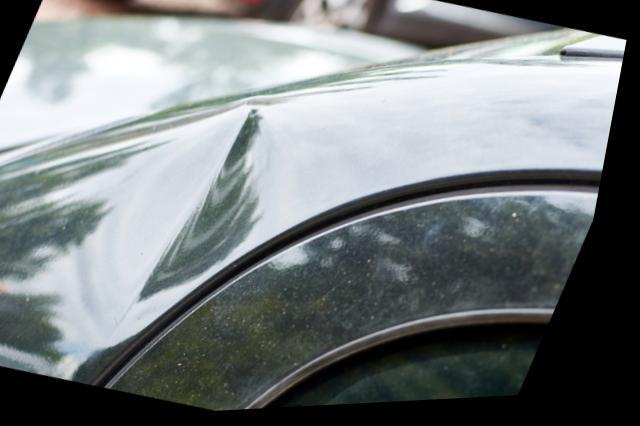dent: (80, 106, 283, 343)
